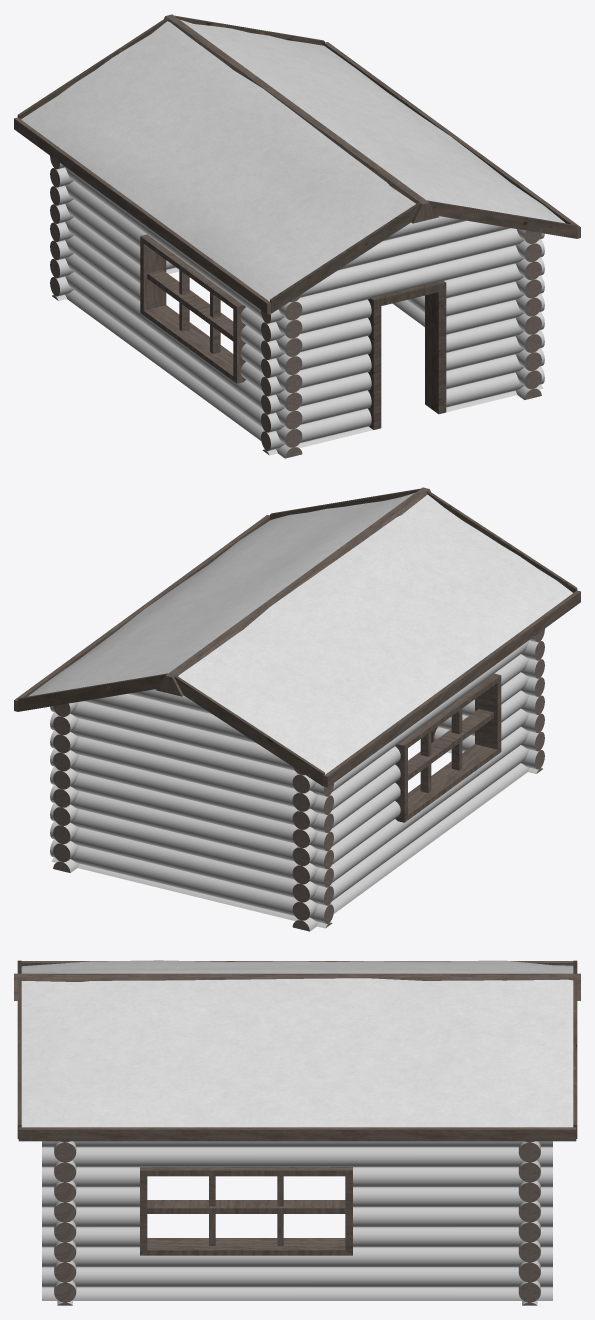
File: cabin_main.fbx
3 renders of one model, top to bottom at view 1: azimuth 30°, elevation 25°; view 2: azimuth 150°, elevation 25°; view 3: azimuth 270°, elevation 25°, orthographic. The views are drawn at different scales.
Parts seen in each view (by area): view 1: Plane.006, Cylinder.002, Cylinder, Plane.005, Plane.004, Plane.003, Plane.007, Plane.002; view 2: Plane.006, Cylinder.002, Cylinder, Plane.005, Plane.004, Plane.003, Plane.002; view 3: Plane.006, Cylinder, Plane.005, Plane.003, Cylinder.002, Plane.002, Plane.004.
Part boxes in pixels (left/top/right/bottom): Plane.006: left=21, top=20, right=565, bottom=301; Cylinder.002: left=50, top=156, right=544, bottom=455; Cylinder: left=65, top=167, right=541, bottom=458; Plane.005: left=140, top=234, right=246, bottom=383; Plane.004: left=17, top=15, right=577, bottom=313; Plane.003: left=14, top=42, right=580, bottom=314; Plane.007: left=368, top=280, right=446, bottom=429; Plane.002: left=164, top=14, right=438, bottom=223; Plane.006: left=28, top=493, right=572, bottom=774; Cylinder.002: left=50, top=629, right=544, bottom=928; Cylinder: left=53, top=640, right=529, bottom=931; Plane.005: left=395, top=673, right=501, bottom=822; Plane.004: left=17, top=488, right=577, bottom=786; Plane.003: left=14, top=515, right=580, bottom=787; Plane.002: left=156, top=487, right=430, bottom=696; Plane.006: left=21, top=960, right=573, bottom=1127; Cylinder: left=42, top=1141, right=552, bottom=1300; Plane.005: left=140, top=1167, right=352, bottom=1255; Plane.003: left=18, top=961, right=576, bottom=1141; Cylinder.002: left=54, top=1141, right=540, bottom=1305; Plane.002: left=14, top=973, right=580, bottom=1000; Plane.004: left=17, top=960, right=577, bottom=1138.
Bounding box in the file's own units: 578 × 410 × 822.
